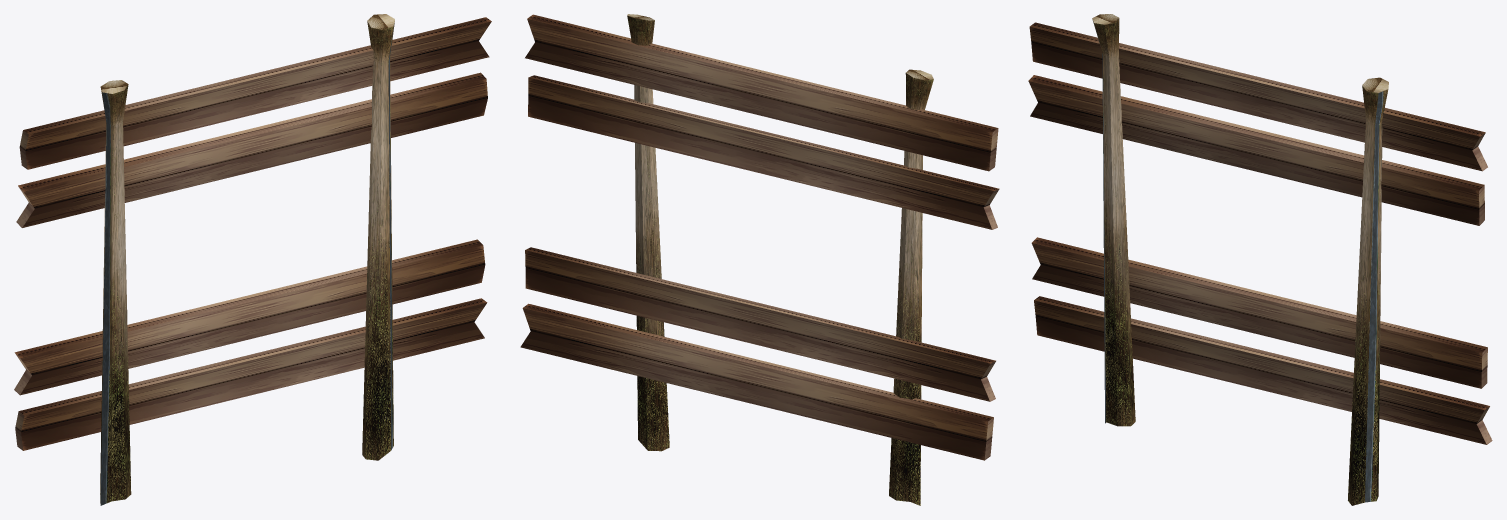
File: p2_platform_wall_with_holes.fbx
3 renders of one model, left to right at view 1: azimuth 30°, elevation 25°; view 2: azimuth 150°, elevation 25°; view 3: azimuth 330°, elevation 25°, orthographic. The views are drawn at different scales.
Parts seen in each view (by area): view 1: Group000Mat; view 2: Group000Mat; view 3: Group000Mat.
Part boxes in pixels (x1,y1,x2,y2): Group000Mat: (14, 14, 491, 505); Group000Mat: (520, 14, 999, 505); Group000Mat: (1028, 14, 1492, 505).
Size of the model in its own units: 746 by 665 by 61.31.
